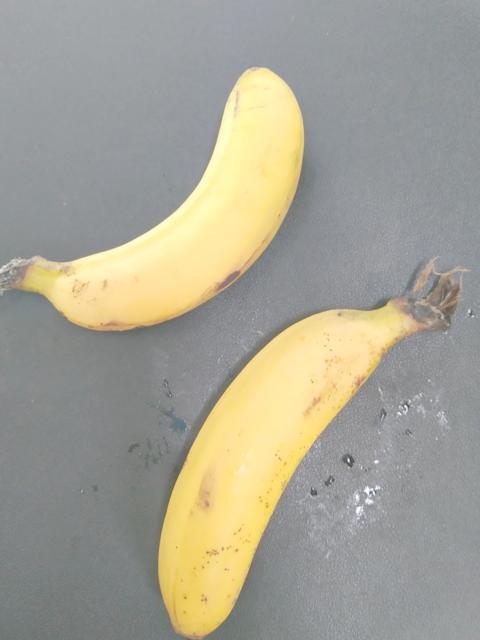freshripe: (10, 59, 342, 358)
ripe: (136, 297, 387, 639)
